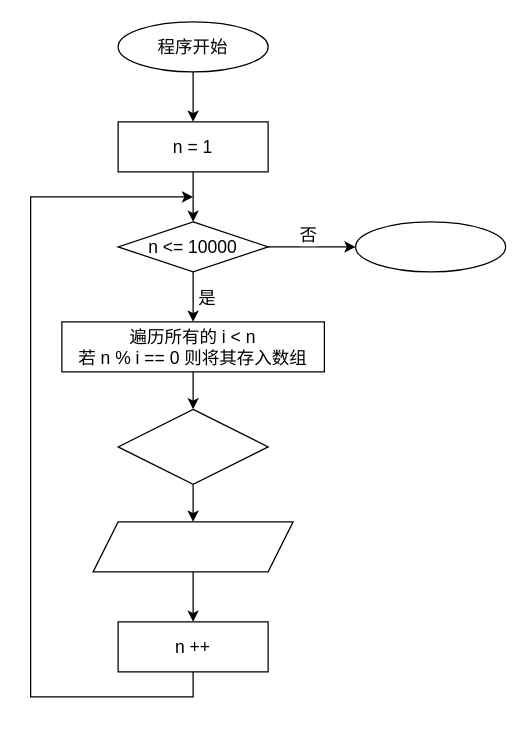
Some shapes in this 528 by 729 pixel diagram are drawn without their labels. The shapes that lost their labels are listed below. From the top down, each one's centre as x and y in pixels, then its label:
the point at 430,246: 程序结束
the point at 192,446: 计算sum sum == n
the point at 192,546: 输出 n=arr[0]+arr[1]+...
